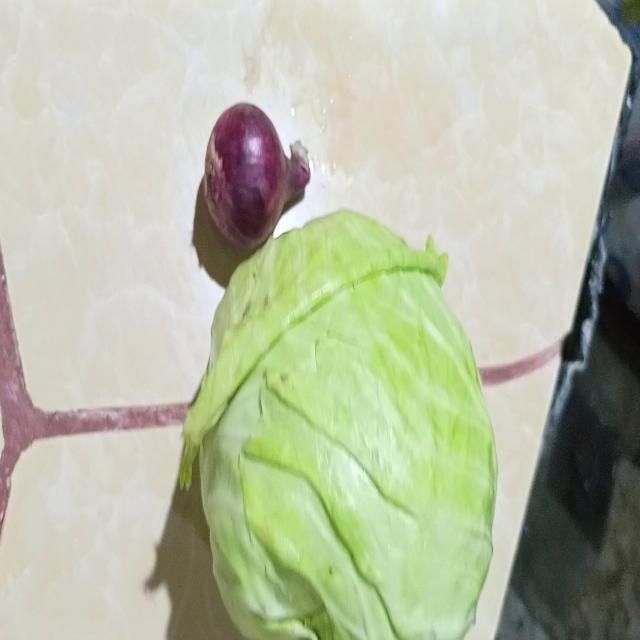cabbage: (185, 210, 498, 640)
onion: (202, 103, 311, 245)
